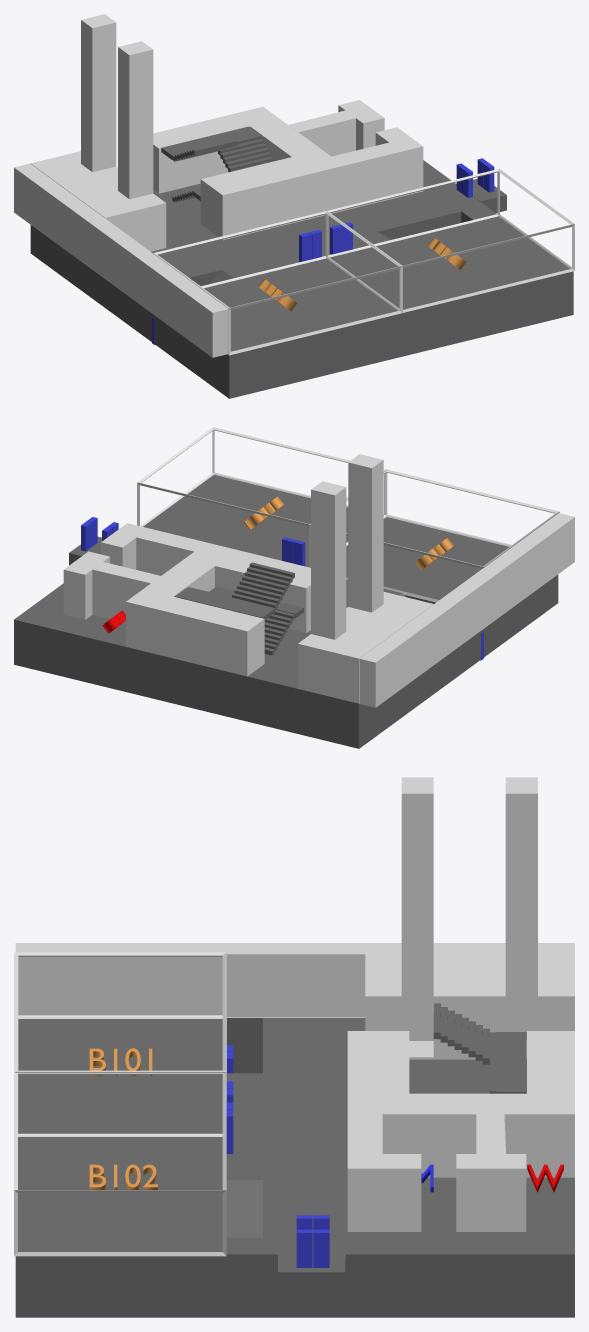
3 views of the same model, one above another, from view 1: azimuth 30°, elevation 25°; view 2: azimuth 150°, elevation 25°; view 3: azimuth 270°, elevation 25° (orthographic). The views are drawn at different scales.
Visible parts, largest first — view 1: Cube, Cube.004, Cube.008, Cube.024, Cube.025, Cube.003, Cube.002, Cube.001, Cube.006, Cube.009, Cube.023, Cube.010; view 2: Cube, Cube.004, Cube.008, Cube.003, Cube.024, Cube.025, Cube.001, Cube.002, Cube.010, Cube.009, Cube.005, Text (+2 smaller); view 3: Cube, Cube.004, Cube.008, Cube.003, Cube.024, Cube.025, Cube.001, Cube.002, Cube.023, Cube.010, Cube.009, Cube.006 (+3 smaller).
Part boxes in pixels (bbox=[...]): Cube: bbox=[30, 160, 573, 398]; Cube.004: bbox=[153, 100, 423, 240]; Cube.008: bbox=[14, 163, 228, 357]; Cube.024: bbox=[118, 41, 153, 199]; Cube.025: bbox=[81, 14, 116, 172]; Cube.003: bbox=[30, 151, 166, 251]; Cube.002: bbox=[153, 210, 402, 355]; Cube.001: bbox=[326, 169, 574, 312]; Cube.006: bbox=[218, 134, 273, 172]; Cube.009: bbox=[161, 126, 259, 159]; Cube.023: bbox=[473, 178, 506, 212]; Cube.010: bbox=[172, 139, 237, 161]; Cube: bbox=[14, 475, 558, 748]; Cube.004: bbox=[63, 523, 310, 676]; Cube.008: bbox=[359, 513, 574, 707]; Cube.003: bbox=[298, 592, 433, 703]; Cube.024: bbox=[348, 454, 383, 612]; Cube.025: bbox=[311, 481, 346, 639]; Cube.001: bbox=[137, 427, 386, 567]; Cube.002: bbox=[309, 469, 559, 602]; Cube.010: bbox=[230, 562, 294, 613]; Cube.009: bbox=[174, 588, 272, 619]; Cube.005: bbox=[264, 609, 294, 655]; Text: bbox=[243, 496, 284, 530]; Cube: bbox=[15, 1018, 574, 1317]; Cube.004: bbox=[347, 1031, 574, 1231]; Cube.008: bbox=[15, 943, 574, 1017]; Cube.003: bbox=[365, 954, 574, 1059]; Cube.024: bbox=[401, 777, 433, 996]; Cube.025: bbox=[505, 777, 537, 996]; Cube.001: bbox=[14, 1070, 226, 1256]; Cube.002: bbox=[14, 952, 226, 1133]; Cube.023: bbox=[278, 1253, 345, 1293]; Cube.010: bbox=[433, 1003, 496, 1064]; Cube.009: bbox=[496, 1032, 526, 1093]; Cube.006: bbox=[434, 1061, 496, 1093].
Bounding box in the file's own units: 18.02 × 10.43 × 16.04.
